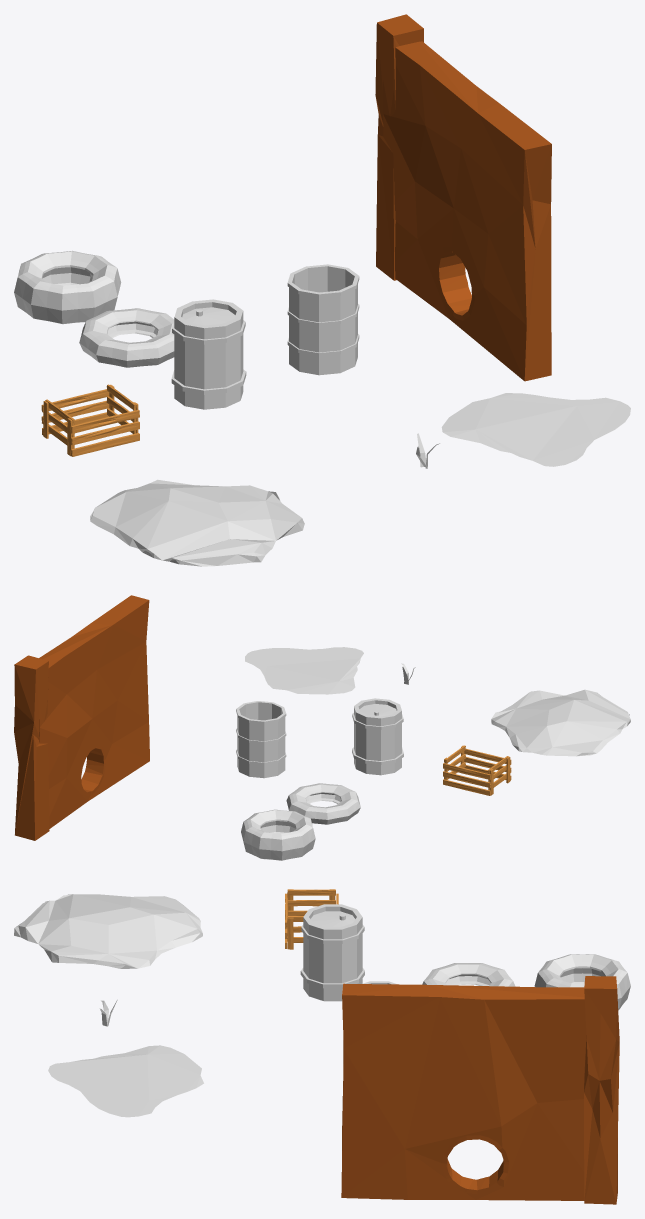
The model's file is environment2.fbx.
The picture shows the model from 3 angles, top to bottom: view 1: azimuth 30°, elevation 25°; view 2: azimuth 150°, elevation 25°; view 3: azimuth 270°, elevation 25°; orthographic projection. The views are drawn at different scales.
Visible parts, largest first — view 1: BrickWallhole, Puddle, Gooo, Cylinder, BarrelContainter, Tirethiccccc, Tire, SmallWoodboxEmpty, BarrelRings; view 2: BrickWallhole, Puddle, Gooo, Cylinder, Tirethiccccc, BarrelContainter, Tire, SmallWoodboxEmpty, BarrelRings; view 3: BrickWallhole, Puddle, Gooo, BarrelContainter, Tirethiccccc, Tire, SmallWoodboxEmpty, BarrelRings.
Part boxes in pixels (x1,y1,x2,y2): BrickWallhole: [375, 14, 551, 381]; Puddle: [90, 479, 304, 566]; Gooo: [441, 393, 630, 466]; Cylinder: [287, 264, 359, 375]; BarrelContainter: [174, 299, 243, 409]; Tirethiccccc: [14, 250, 121, 324]; Tire: [79, 308, 174, 367]; SmallWoodboxEmpty: [41, 384, 139, 456]; BarrelRings: [171, 309, 246, 394]; BrickWallhole: [14, 595, 149, 840]; Puddle: [491, 689, 630, 756]; Gooo: [245, 647, 363, 694]; Cylinder: [236, 701, 286, 778]; Tirethiccccc: [241, 809, 315, 860]; BarrelContainter: [354, 698, 401, 775]; Tire: [286, 783, 360, 824]; SmallWoodboxEmpty: [443, 745, 511, 795]; BarrelRings: [352, 711, 403, 764]; BrickWallhole: [341, 976, 619, 1204]; Puddle: [14, 894, 202, 968]; Gooo: [48, 1045, 203, 1117]; BarrelContainter: [303, 904, 362, 1001]; Tirethiccccc: [534, 954, 630, 1010]; Tire: [422, 963, 515, 986]; SmallWoodboxEmpty: [285, 889, 338, 949]; BarrelRings: [300, 914, 364, 988].
Bounding box in the file's own units: 893 × 361 × 936.
